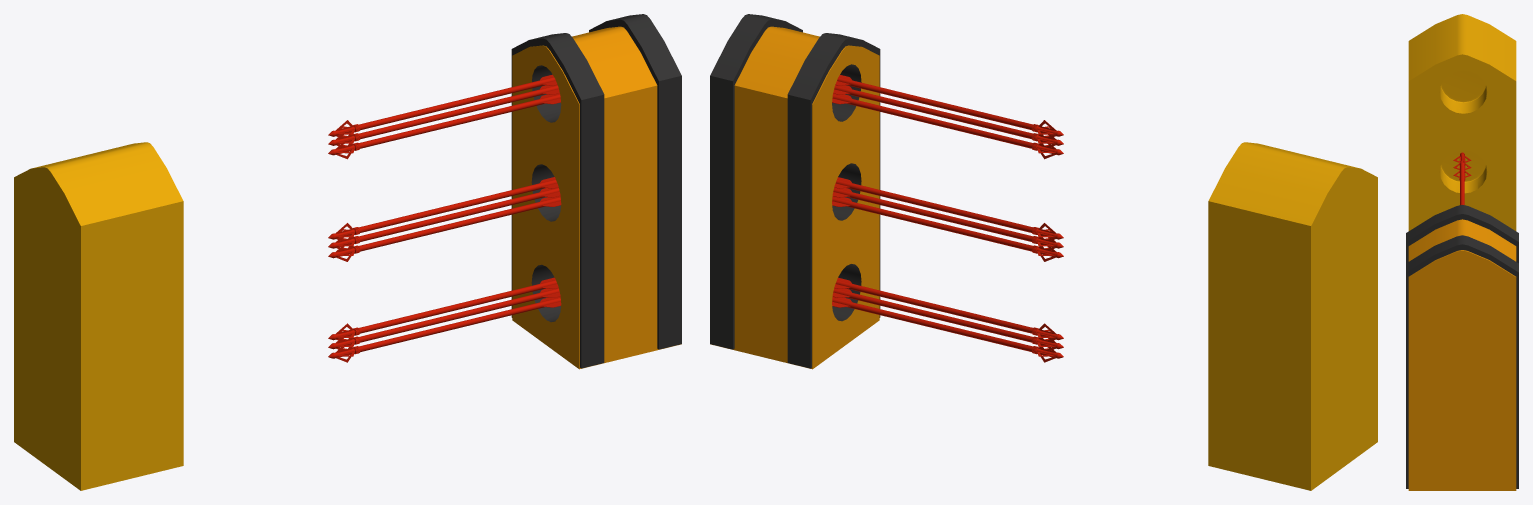
3 views of the same model, side by side, from view 1: azimuth 30°, elevation 25°; view 2: azimuth 150°, elevation 25°; view 3: azimuth 270°, elevation 25° (orthographic). The views are drawn at different scales.
Visible parts, largest first — view 1: pCube15, pCube16, Attow8, Attow11, Attow5; view 2: pCube15, pCube16, Attow11, Attow8, Attow5; view 3: pCube16, pCube15, Attow5.
Part boxes in pixels (x1=…): pCube15: x1=14, y1=142, x2=183, y2=490; pCube16: x1=511, y1=14, x2=681, y2=369; Attow8: x1=328, y1=177, x2=561, y2=261; Attow11: x1=328, y1=277, x2=561, y2=362; Attow5: x1=328, y1=74, x2=560, y2=159; pCube15: x1=1208, y1=142, x2=1377, y2=490; pCube16: x1=710, y1=14, x2=880, y2=369; Attow11: x1=832, y1=277, x2=1063, y2=362; Attow8: x1=832, y1=177, x2=1063, y2=261; Attow5: x1=832, y1=75, x2=1063, y2=159; pCube16: x1=1406, y1=205, x2=1518, y2=490; pCube15: x1=1408, y1=14, x2=1516, y2=230; Attow5: x1=1453, y1=152, x2=1471, y2=205.
Bounding box in the file's own units: 13.4 × 6.5 × 2.7.
